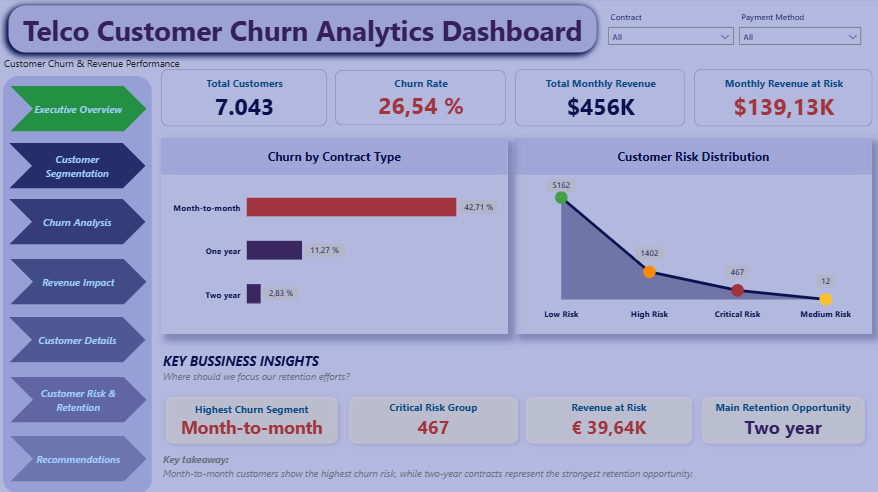

What the dashboard file says about the page in this screenshot:
{"tool":"powerbi","page":{"name":"Executive Overview","canvas":[1280,720],"ordinal":0},"visuals":[{"type":"shape","box":[10.3,105.2,215.5,606.8],"z":0,"group":"g2"},{"type":"shape","title":"Telco Customer Churn Analytics Dashboard","box":[5.8,0,874.7,92.5],"z":1000},{"type":"cardVisual","fields":{"Data":["Measures Table.Total Customers"]},"box":[238.7,104.7,240.3,83.2],"z":2000},{"type":"shape","box":[19.1,202.7,197.7,66.2],"z":2000,"group":"g1"},{"type":"bookmarkNavigator","box":[585.5,46.3,14.5,4.3],"z":3000},{"type":"cardVisual","fields":{"Data":["_Measures.Total Monthly Revenue"]},"box":[750.1,104.7,246.5,83.2],"z":4000},{"type":"shape","box":[19.1,285.1,197.7,66.2],"z":4000,"group":"g1"},{"type":"textbox","box":[241.4,659,1025.8,61],"z":5000},{"type":"lineChart","title":"Customer Risk Distribution","fields":{"Category":["Risk Categories.Risk Segment"],"Y":["Risk Category.Customers by Risk Segment"]},"box":[750.4,203.9,516.1,283.4],"z":6000},{"type":"shape","box":[20.7,371.9,197.7,66.2],"z":6000,"group":"g1"},{"type":"cardVisual","fields":{"Data":["_Measures.Critical Risk Customers"]},"box":[499.1,567.2,267.2,90.5],"z":8000},{"type":"cardVisual","title":"Revenue at Risk","fields":{"Data":["_Measures.Critical Risk Revenue"]},"box":[754.2,567.2,263.8,90.5],"z":9000},{"type":"shape","box":[19.1,455.7,197.7,66.2],"z":10000,"group":"g1"},{"type":"cardVisual","fields":{"Data":["_Measures.Main Retention Opportunity"]},"box":[1008.5,567.2,258.6,90.5],"z":10000},{"type":"cardVisual","fields":{"Data":["_Measures.Highest Churn Segment"]},"box":[234.5,567.2,271.5,90.5],"z":11000},{"type":"textbox","box":[241.3,513.7,325.8,53.4],"z":12000},{"type":"shape","box":[20.7,629.2,197.7,66.2],"z":12000,"group":"g1"},{"type":"cardVisual","fields":{"Data":["_Measures.Monthly Revenue at Risk"]},"box":[1008.9,104.7,258.8,83.2],"z":13000},{"type":"slicer","title":"Payment Method","fields":{"Values":["dim DimPayment.PaymentMethod"]},"box":[1070.5,19.8,186.2,67.2],"z":14000},{"type":"slicer","title":"Payment Method","fields":{"Values":["dim DimContract.Contract"]},"box":[880.5,20.2,190.8,66.5],"z":15000},{"type":"textbox","box":[11,86.6,277.7,34.4],"z":16000},{"type":"cardVisual","fields":{"Data":["_Measures.Churn Rate"]},"box":[489.6,106,248,80.1],"z":17000},{"type":"clusteredBarChart","title":"Churn by Contract Type","fields":{"Category":["dim DimContract.Contract"],"Y":["_Measures.Churn Rate"]},"box":[238.8,203.4,500.8,283.6],"z":18000},{"type":"shape","box":[20.7,542.4,197.7,66.2],"z":19000,"group":"g1"},{"type":"shape","box":[20.7,120.4,197.7,66.2],"z":19500,"group":"g1"},{"type":"group","id":"g1","title":"Group 1","box":[19.1,120.4,199.2,575],"z":19501,"group":"g2"},{"type":"group","id":"g2","title":"Group 2","box":[10.3,105.2,215.5,606.8],"z":19502}]}

Visuals, with their boxes in screenshot pixels (x1, y1, x2, y2), scaled from the page's 1280x720 canvas onto the 878x492 screenshot:
shape: (7, 72, 155, 487)
"Telco Customer Churn Analytics Dashboard" shape: (4, 0, 604, 63)
cardVisual - Measures Table.Total Customers: (164, 72, 329, 128)
shape: (13, 139, 149, 184)
bookmarkNavigator: (402, 32, 412, 35)
cardVisual - _Measures.Total Monthly Revenue: (515, 72, 684, 128)
shape: (13, 195, 149, 240)
textbox: (166, 450, 869, 491)
"Customer Risk Distribution" lineChart: (515, 139, 869, 333)
shape: (14, 254, 150, 299)
cardVisual - _Measures.Critical Risk Customers: (342, 388, 526, 449)
"Revenue at Risk" cardVisual: (517, 388, 698, 449)
shape: (13, 311, 149, 357)
cardVisual - _Measures.Main Retention Opportunity: (692, 388, 869, 449)
cardVisual - _Measures.Highest Churn Segment: (161, 388, 347, 449)
textbox: (166, 351, 389, 388)
shape: (14, 430, 150, 475)
cardVisual - _Measures.Monthly Revenue at Risk: (692, 72, 870, 128)
"Payment Method" slicer: (734, 14, 862, 59)
"Payment Method" slicer: (604, 14, 735, 59)
textbox: (8, 59, 198, 83)
cardVisual - _Measures.Churn Rate: (336, 72, 506, 127)
"Churn by Contract Type" clusteredBarChart: (164, 139, 507, 333)
shape: (14, 371, 150, 416)
shape: (14, 82, 150, 128)
"Group 1" group: (13, 82, 150, 475)
"Group 2" group: (7, 72, 155, 487)
